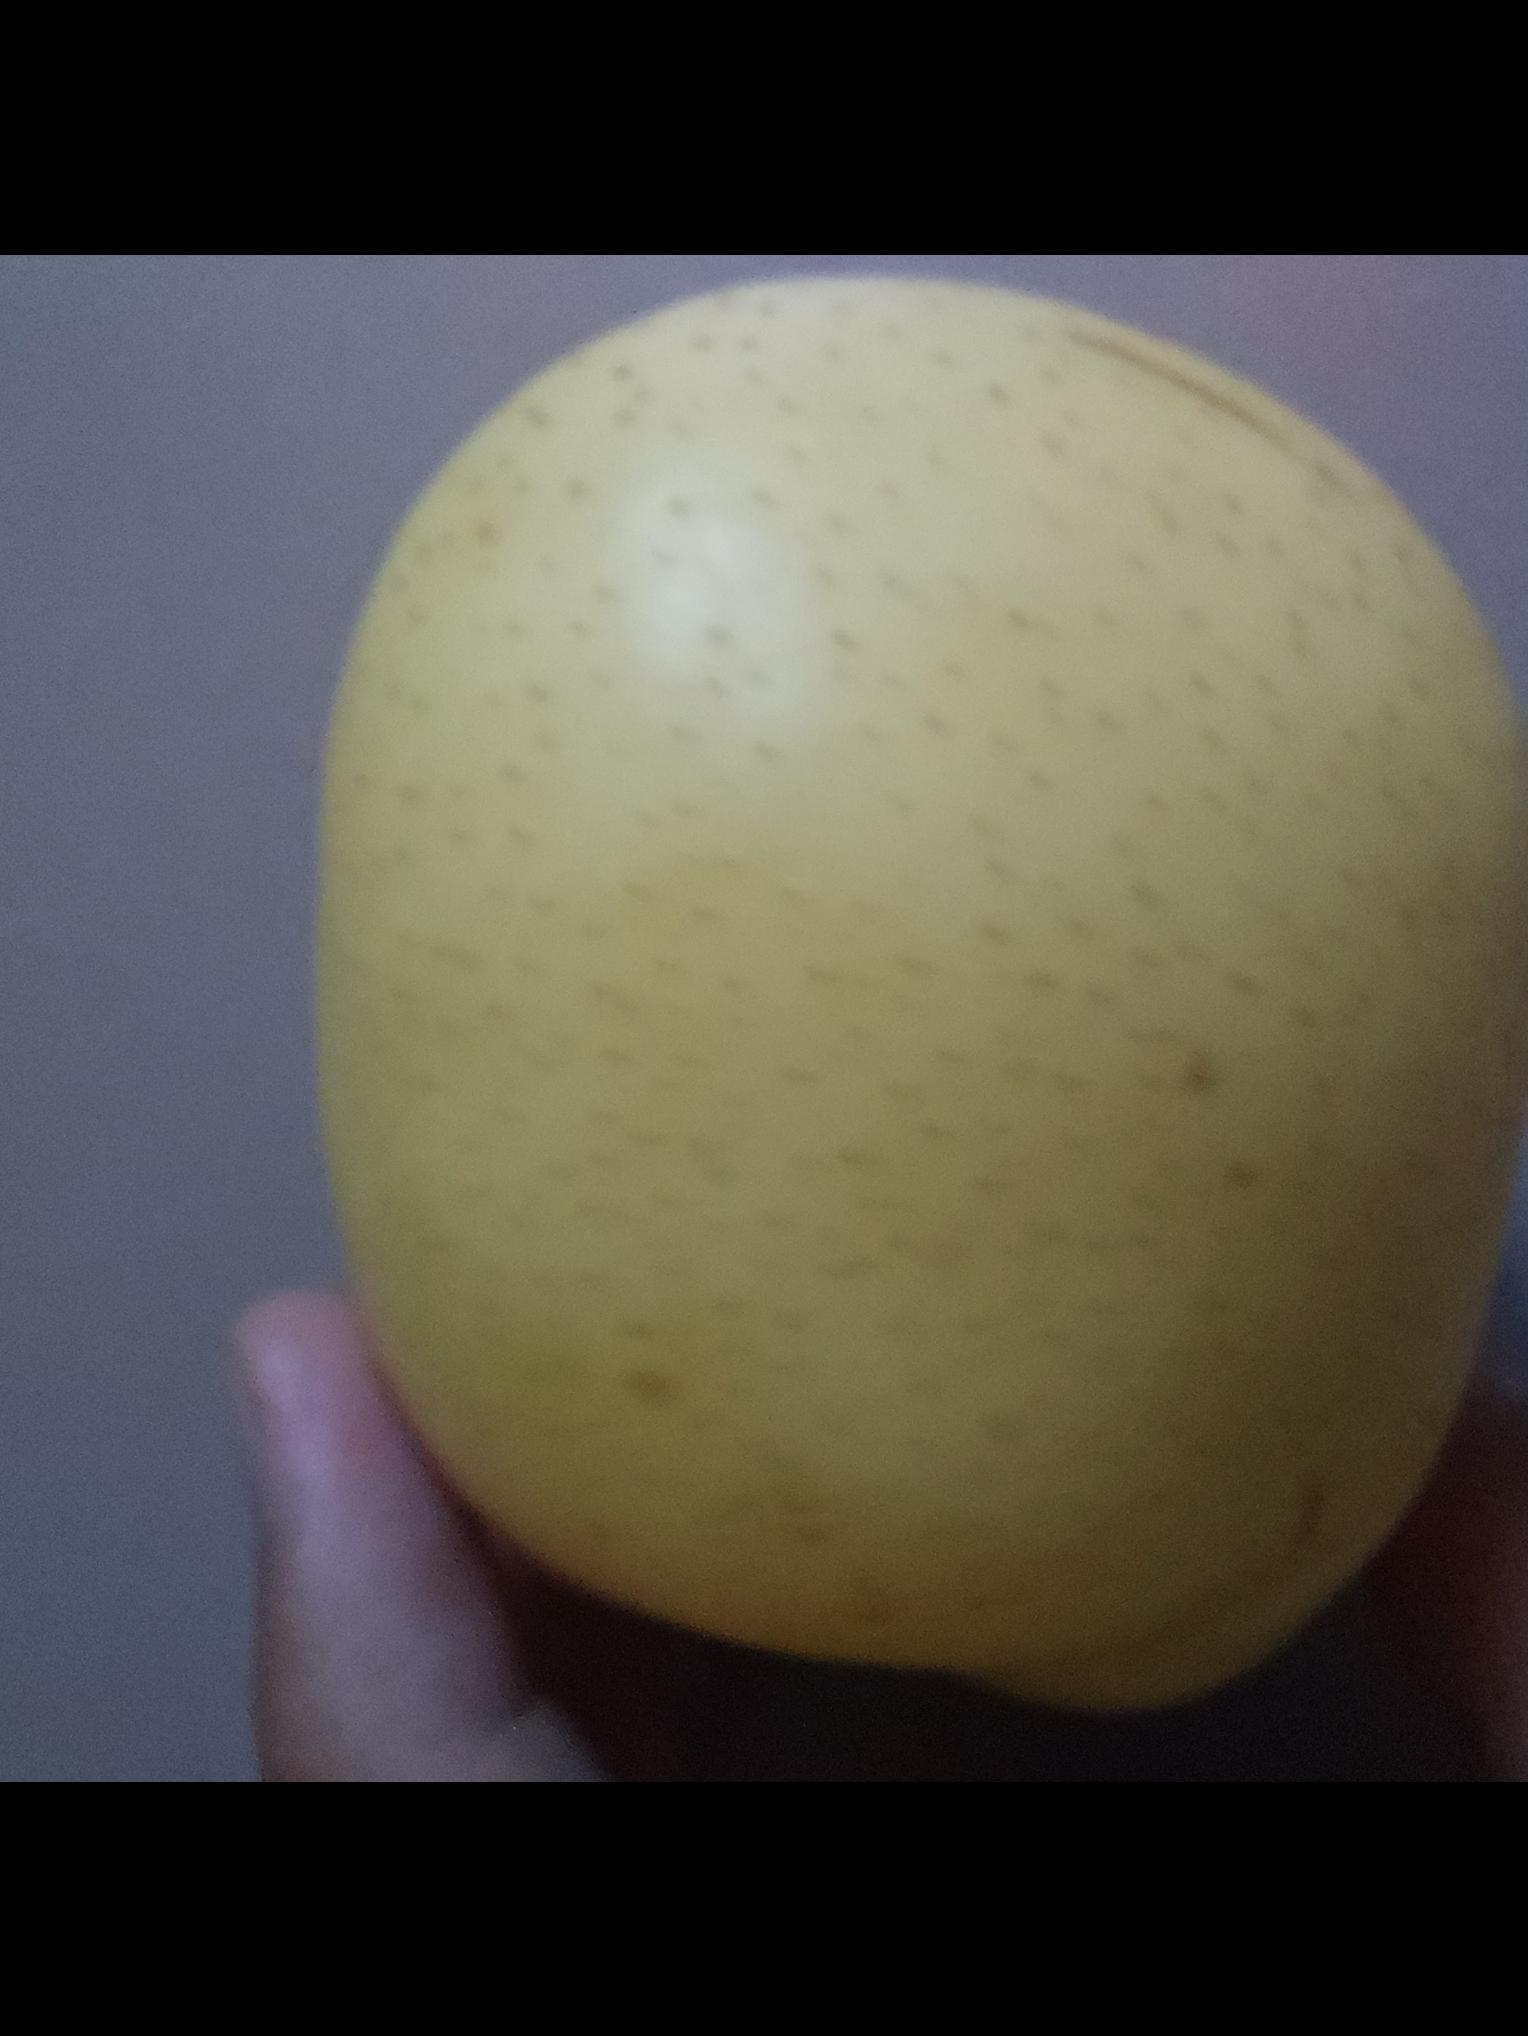Good Pear: (371, 253, 1528, 1527)
